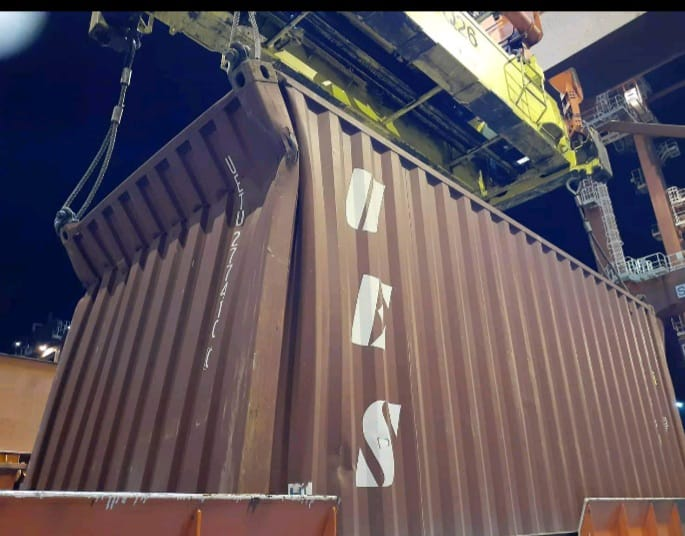moderate: (80, 88, 295, 280)
